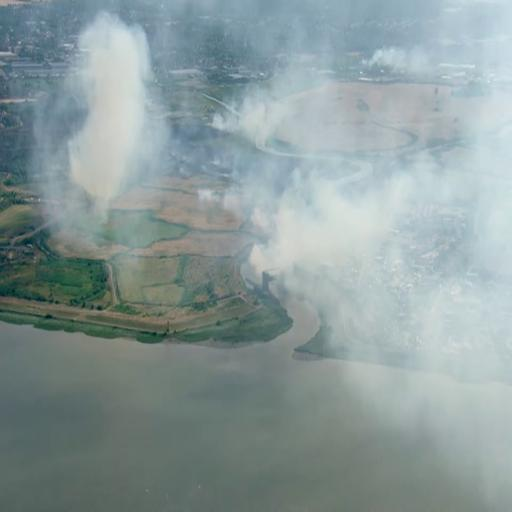smoke: (68, 6, 160, 207)
